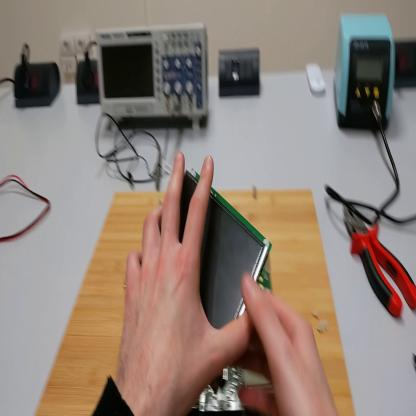hand: (118, 150, 251, 416), (239, 273, 338, 416)
low voltage board: (192, 248, 272, 413)
oscilloscope: (96, 21, 212, 133)
oscilloscope probe tip: (158, 139, 163, 192)
pliers: (341, 190, 415, 314)
socket: (13, 58, 63, 110), (75, 60, 101, 105), (395, 38, 416, 88)
welder station: (336, 11, 400, 136)
working area: (36, 188, 356, 415)
